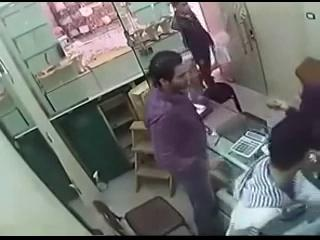Normal: (144, 50, 225, 234), (225, 110, 320, 234), (170, 3, 217, 90), (92, 196, 194, 236)
